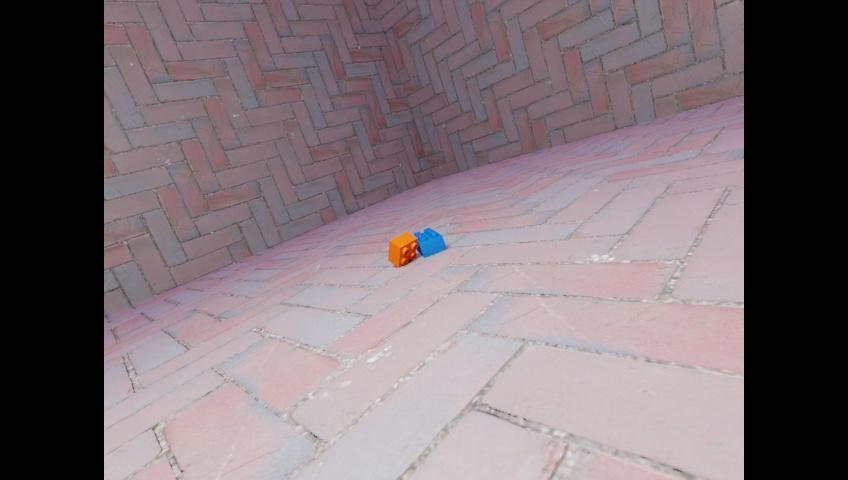2x2_orange: (388, 231, 417, 267)
4x2_blue: (413, 227, 445, 257)
